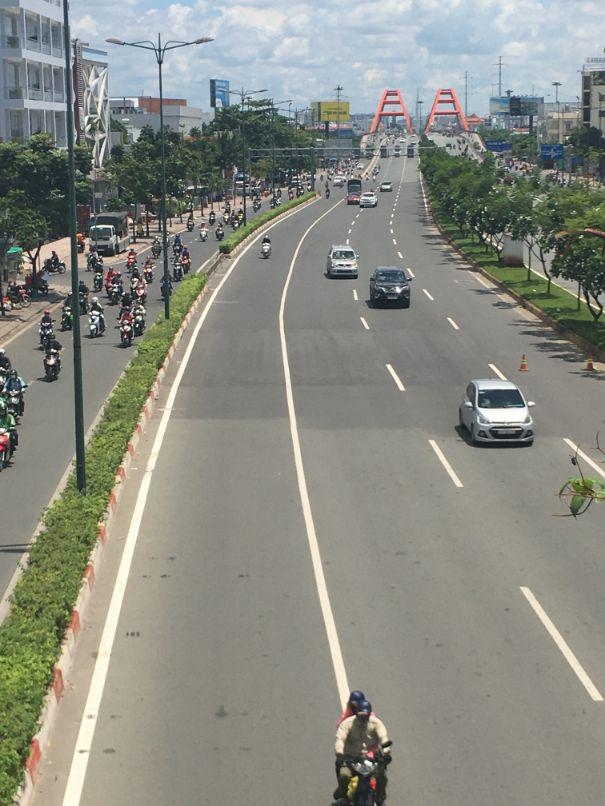bus: (347, 180, 362, 206)
car: (459, 377, 535, 444), (369, 266, 414, 310), (326, 245, 361, 279), (359, 195, 377, 210), (261, 238, 271, 258), (380, 179, 392, 190)
motorbike: (44, 349, 62, 384), (118, 309, 134, 346), (89, 312, 105, 338)
truck: (90, 210, 132, 259)
